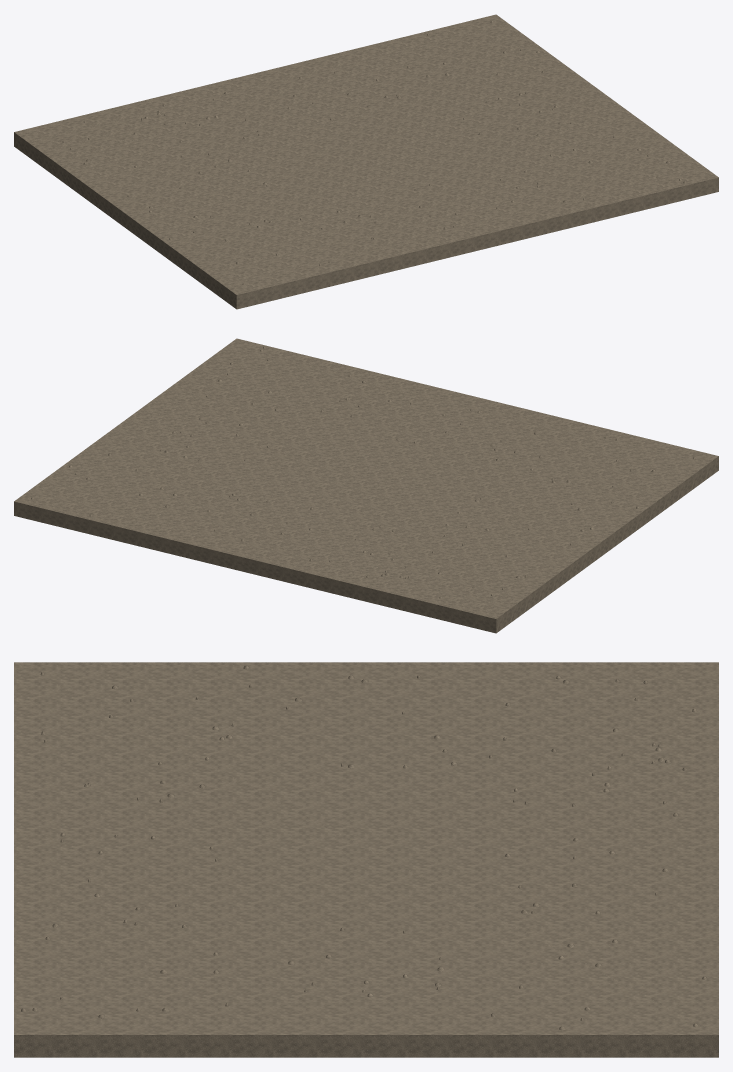
File: SM_Substation_Gravel.glb
3 renders of one model, top to bottom at view 1: azimuth 30°, elevation 25°; view 2: azimuth 150°, elevation 25°; view 3: azimuth 270°, elevation 25°, orthographic. The views are drawn at different scales.
Visible parts, largest first — view 1: SM_Substation_Gravel; view 2: SM_Substation_Gravel; view 3: SM_Substation_Gravel.
Boxes of the visible parts, x1,y1,x2,y2 form: SM_Substation_Gravel: (14,14,718,309); SM_Substation_Gravel: (14,338,718,633); SM_Substation_Gravel: (14,662,718,1057).
Size of the model in its own units: 20 by 0.63 by 16.
Materials: 1 (1 with a texture image).
